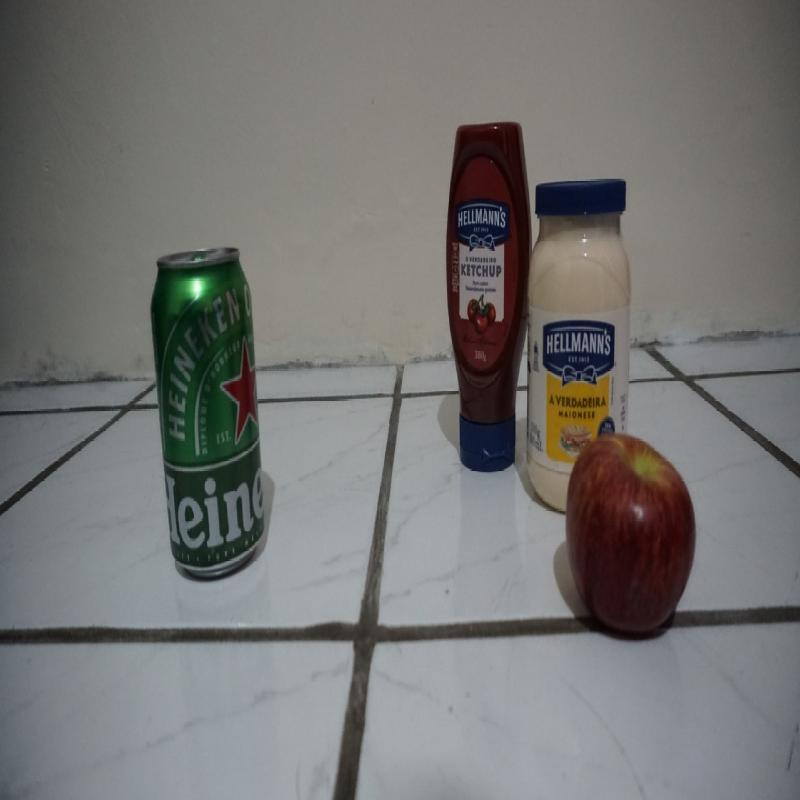Apple: (566, 433, 698, 638)
Beer can: (152, 246, 267, 565)
Ketchup: (444, 118, 524, 472)
Mayonnaise: (529, 175, 630, 427)
